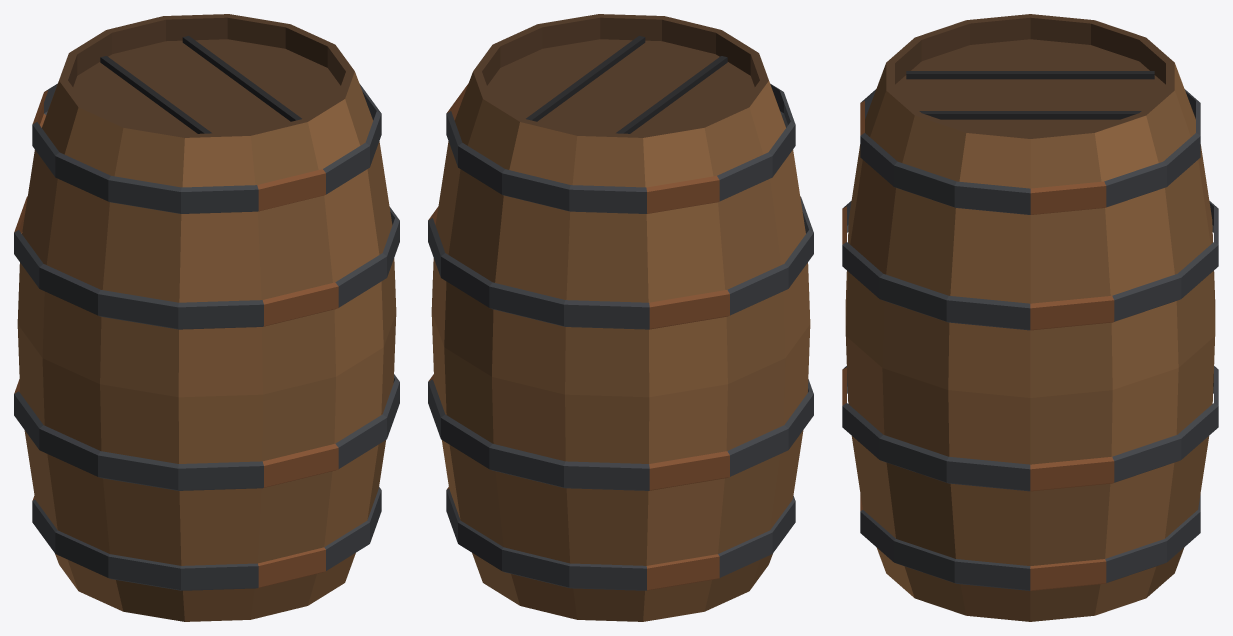
Rendered from Barrel.fbx.
3 renders of one model, left to right at view 1: azimuth 30°, elevation 25°; view 2: azimuth 150°, elevation 25°; view 3: azimuth 270°, elevation 25°, orthographic.
Parts seen in each view (by area): view 1: Barrel; view 2: Barrel; view 3: Barrel.
Boxes of the visible parts, x1=… form: Barrel: x1=14, y1=14, x2=399, y2=621; Barrel: x1=428, y1=14, x2=813, y2=621; Barrel: x1=842, y1=14, x2=1218, y2=621.
Bounding box in the file's own units: 0.652 × 0.9 × 0.6357.
1 material, 1 textured.
